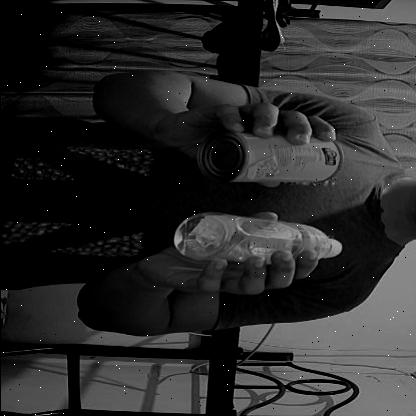Plastic Bottle: (144, 210, 355, 295)
